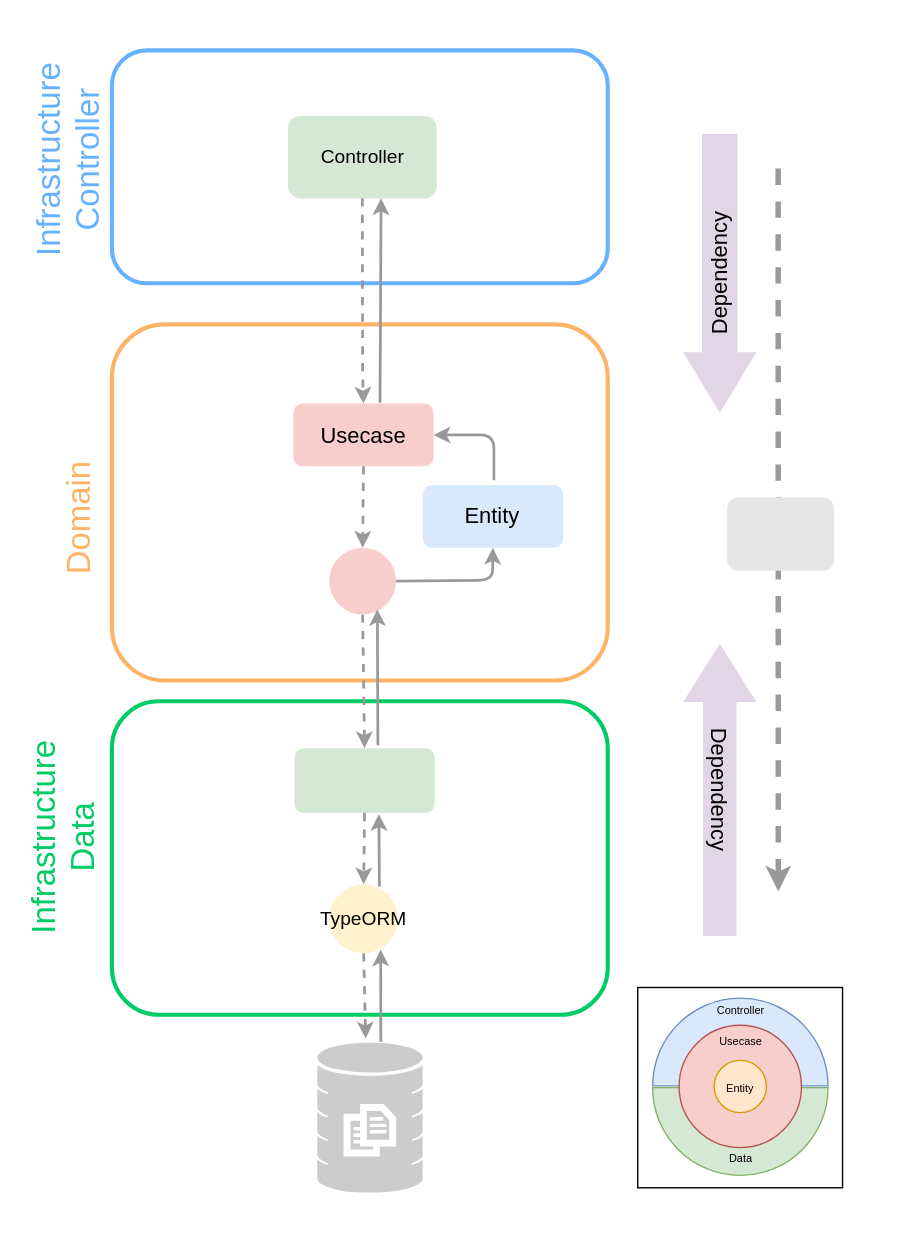
Some shapes in this 907 by 1234 pixel diagram are drawn without their labels. Each missing label, with the centre of its shape:
"Call flow" belongs at point (780, 533).
"Repository" belongs at point (364, 780).
"Repository Interfaces" belongs at point (362, 580).
